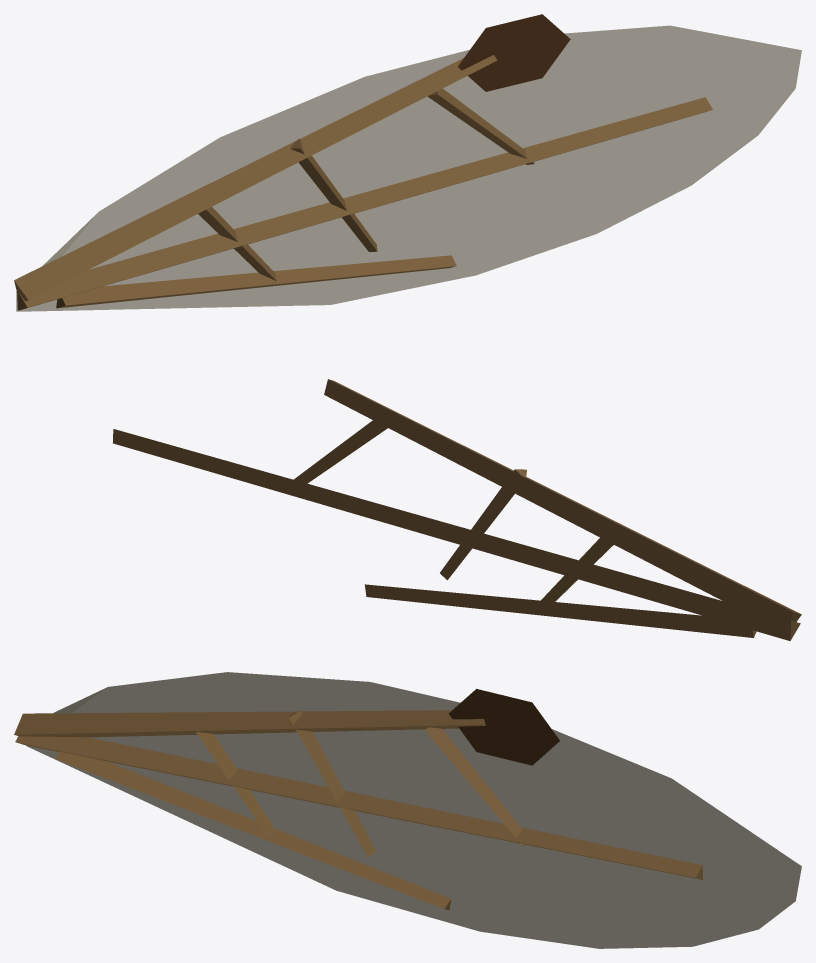
Rendered from nest-wing.glb.
3 renders of one model, top to bottom at view 1: azimuth 30°, elevation 25°; view 2: azimuth 150°, elevation 25°; view 3: azimuth 330°, elevation 25°, orthographic.
Size of the model in its own units: 2.01 by 0.6123 by 0.055.
